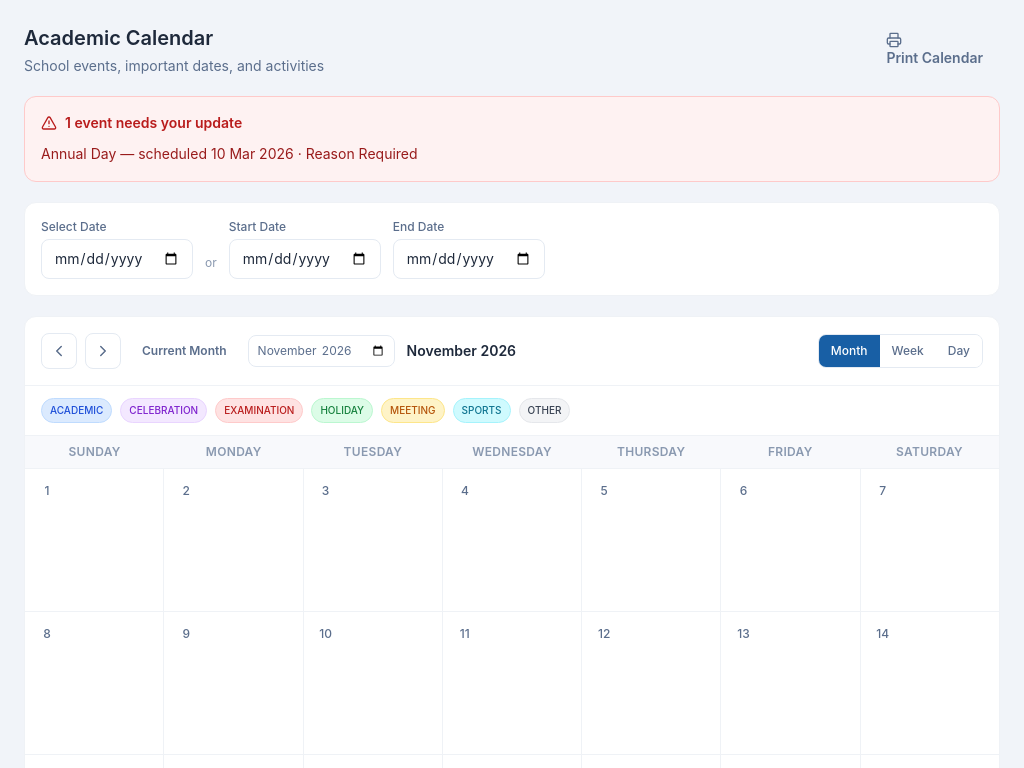
Calendar page filters and print › shows the update-required banner for overdue events assigned to the user
Check: the element with test id "pending-event-updates" shows "1 event needs your update", box [24,96,1000,182]
What coordinates should you click on to do the following:
click the button "Annual Day — scheduled 10 Mar 2026 · Reason Required"
I would click on:
 (229, 154)
Its box is [41,144,418,164].
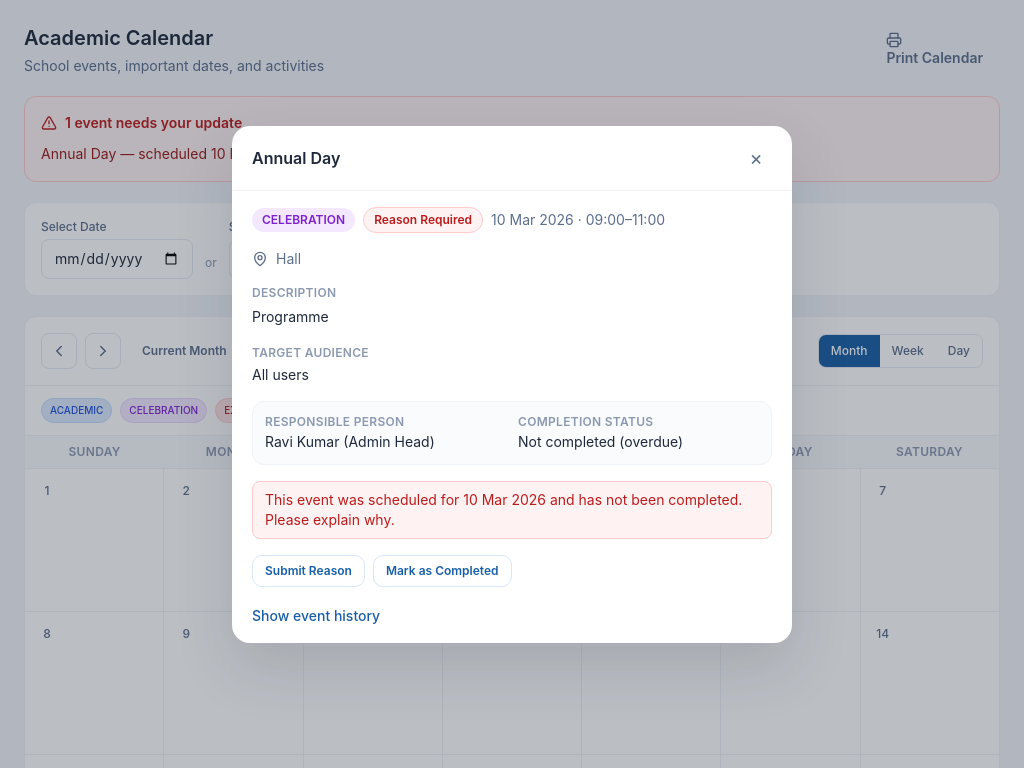
Check: the dialog is shown, box [232,126,792,642]
